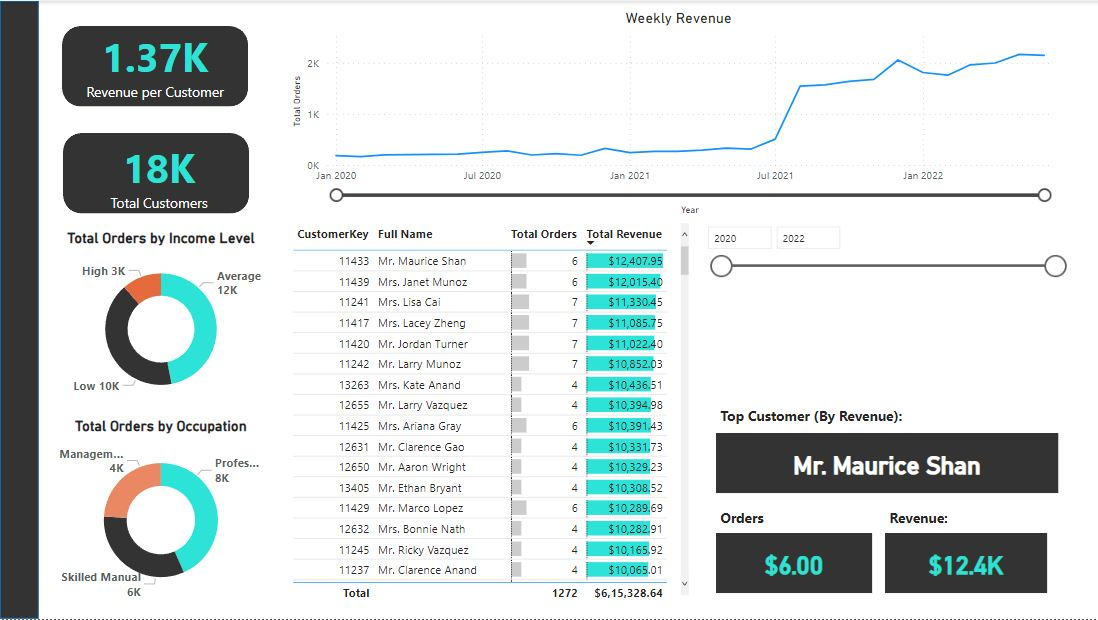

This screenshot's page, from the dashboard's own definition file:
{"tool":"powerbi","page":{"name":"Customer Detail","canvas":[1280,720],"ordinal":1},"visuals":[{"type":"shape","box":[72.9,154.5,217,94],"z":0},{"type":"shape","box":[0,0,45,720],"z":1000},{"type":"card","fields":{"Values":["Measure Table.Total Customers"]},"box":[68.6,128.7,233.1,150.2],"z":2000},{"type":"shape","box":[72.1,28.6,217,94],"z":3000},{"type":"card","fields":{"Values":["AW_Sales_Fact.Average Revenue per Customer"]},"box":[64.4,-0.8,233.1,150.2],"z":4000},{"type":"lineChart","title":"Weekly Revenue ","fields":{"Category":["AW_Calendar_Lookup.Start of Month.Variation.Date Hierarchy.Year","AW_Calendar_Lookup.Start of Month.Variation.Date Hierarchy.Quarter","AW_Calendar_Lookup.Start of Month.Variation.Date Hierarchy.Month","AW_Calendar_Lookup.Start of Month.Variation.Date Hierarchy.Day"],"Y":["Measure Table.Total Orders"]},"box":[335.8,8.8,910.5,244.9],"z":5000},{"type":"donutChart","fields":{"Y":["Measure Table.Total Orders"],"Category":["AW_Customers_Lookup.Income Level"]},"box":[68.8,265.8,237.8,214.5],"z":6000},{"type":"donutChart","fields":{"Y":["AW_Sales_Fact.Total Orders"],"Category":["AW_Customers_Lookup.Occupation"]},"box":[68.9,485.3,237.5,221.4],"z":7000},{"type":"tableEx","fields":{"Values":["AW_Customers_Lookup.CustomerKey","AW_Customers_Lookup.Full Name","Measure Table.Total Orders","Measure Table.Total Revenue"]},"box":[335.7,254.5,472.2,452.5],"z":8000},{"type":"card","fields":{"Values":["Measure Table.Full Name (Customer Detail)"]},"box":[834.5,503.3,398.9,70.5],"z":9000},{"type":"textbox","box":[834.5,468,252.3,33.8],"z":10000},{"type":"card","fields":{"Values":["Measure Table.Total Orders (Customer Detail)"]},"box":[834.5,620.3,181.9,70.5],"z":11000},{"type":"card","fields":{"Values":["Measure Table.Total Revenue (Customer Detail)"]},"box":[1031.9,620.3,188.9,70.5],"z":12000},{"type":"textbox","box":[1031.9,586.4,207.2,33.8],"z":13000},{"type":"textbox","box":[834.5,586.4,197.4,33.8],"z":14000},{"type":"slicer","fields":{"Values":["AW_Calendar_Lookup.Year"]},"box":[812,253.2,439.1,93.6],"z":14001}]}

Visuals, with their boxes in screenshot pixels (x1, y1, x2, y2), scaled from the page's 1280x720 canvas onto the 1098x620 screenshot:
shape: left=63, top=133, right=249, bottom=214
shape: left=0, top=0, right=39, bottom=619
card - Measure Table.Total Customers: left=59, top=111, right=259, bottom=240
shape: left=62, top=25, right=248, bottom=106
card - AW_Sales_Fact.Average Revenue per Customer: left=55, top=0, right=255, bottom=129
"Weekly Revenue " lineChart: left=288, top=8, right=1069, bottom=218
donutChart - Measure Table.Total Orders x AW_Customers_Lookup.Income Level: left=59, top=229, right=263, bottom=414
donutChart - AW_Sales_Fact.Total Orders x AW_Customers_Lookup.Occupation: left=59, top=418, right=263, bottom=609
tableEx - AW_Customers_Lookup.CustomerKey x AW_Customers_Lookup.Full Name: left=288, top=219, right=693, bottom=609
card - Measure Table.Full Name (Customer Detail): left=716, top=433, right=1058, bottom=494
textbox: left=716, top=403, right=932, bottom=432
card - Measure Table.Total Orders (Customer Detail): left=716, top=534, right=872, bottom=595
card - Measure Table.Total Revenue (Customer Detail): left=885, top=534, right=1047, bottom=595
textbox: left=885, top=505, right=1063, bottom=534
textbox: left=716, top=505, right=885, bottom=534
slicer - AW_Calendar_Lookup.Year: left=697, top=218, right=1073, bottom=299
